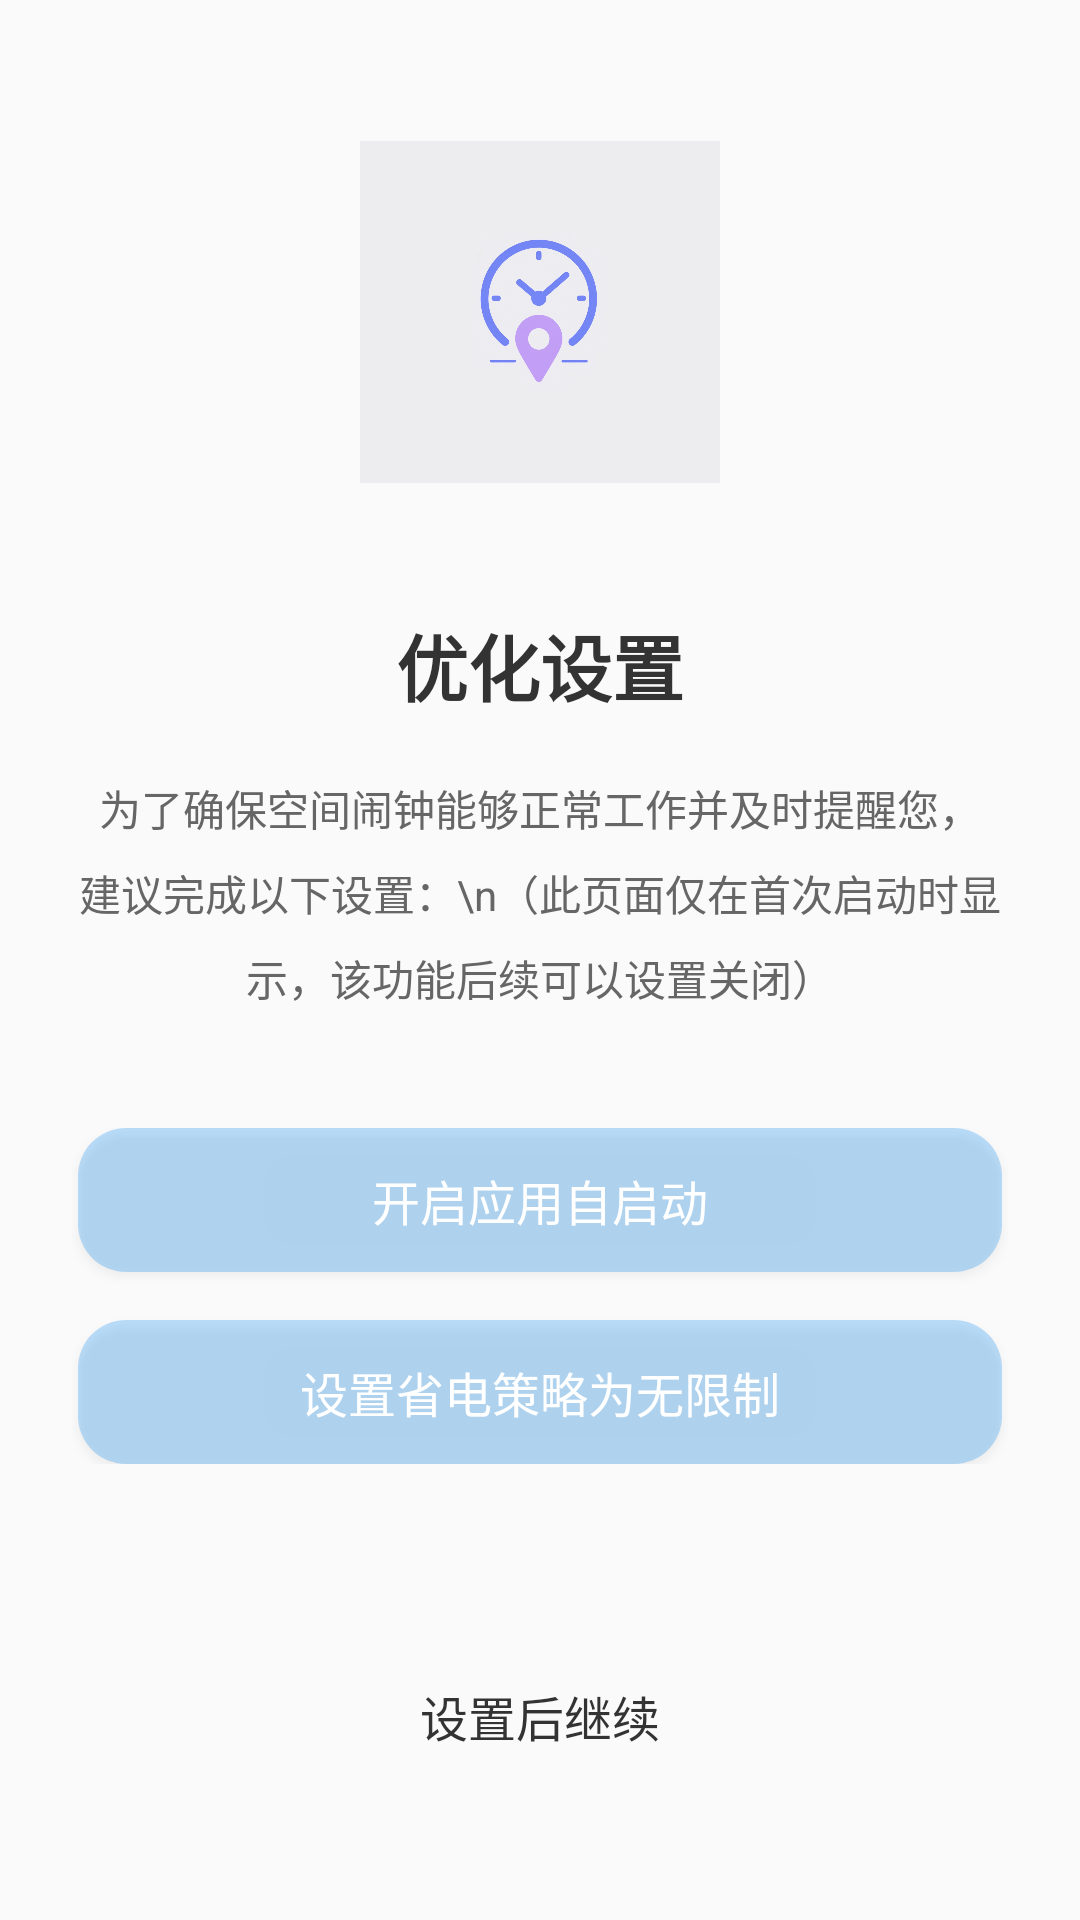

Point at icon controls on the screen. Image size 1080 x 1920, points as (x,y).
应用图标: (540,312)
